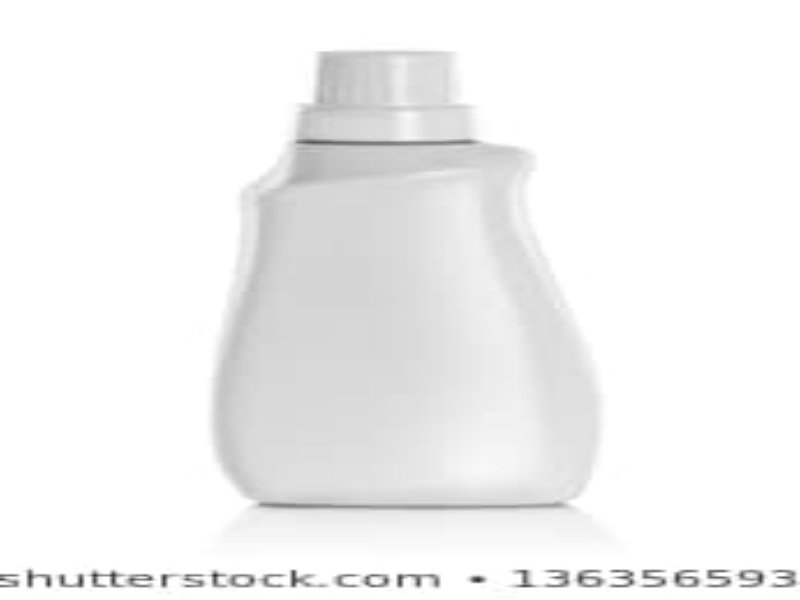detergent-bottle: (217, 46, 605, 516)
